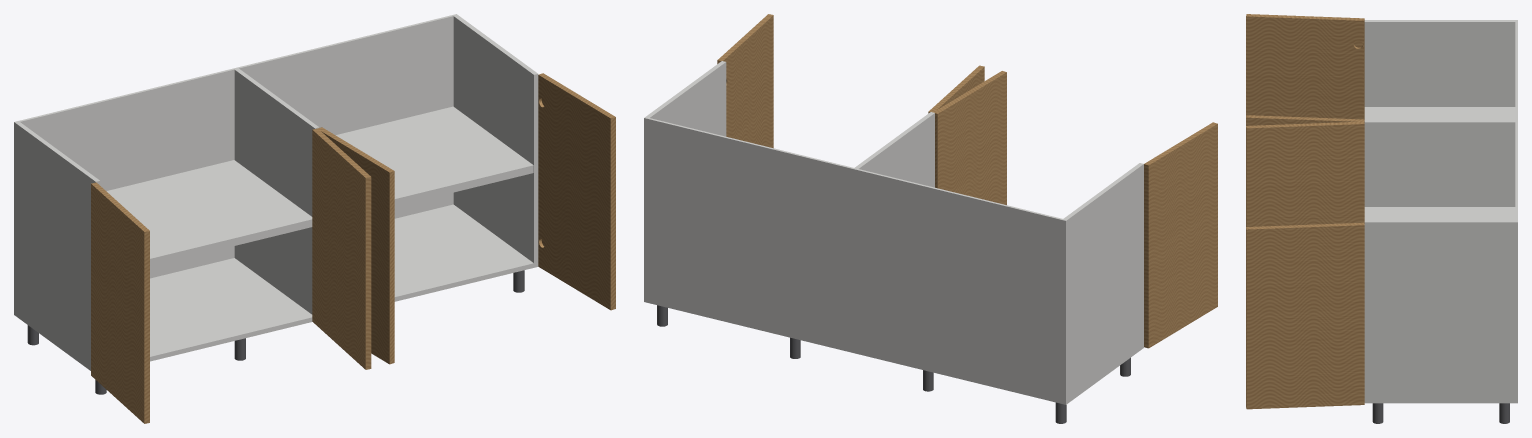
The model's file is w1800_none_pair_open.glb.
3 renders of one model, left to right at view 1: azimuth 30°, elevation 25°; view 2: azimuth 150°, elevation 25°; view 3: azimuth 270°, elevation 25°, orthographic. The views are drawn at different scales.
Parts seen in each view (by area): view 1: white, oak, leg; view 2: white, oak, leg; view 3: white, oak, leg.
Boxes of the visible parts, left/top/right/bottom form: white: left=14, top=14, right=538, bottom=370; oak: left=91, top=73, right=615, bottom=423; leg: left=27, top=270, right=524, bottom=394; white: left=644, top=61, right=1143, bottom=404; oak: left=717, top=14, right=1217, bottom=348; leg: left=657, top=305, right=1130, bottom=423; white: left=1364, top=20, right=1517, bottom=403; oak: left=1246, top=14, right=1364, bottom=409; leg: left=1372, top=403, right=1509, bottom=423.
Bounding box in the file's own units: 1.92 × 0.85 × 1.02.
Materials: 3 (1 with a texture image).
